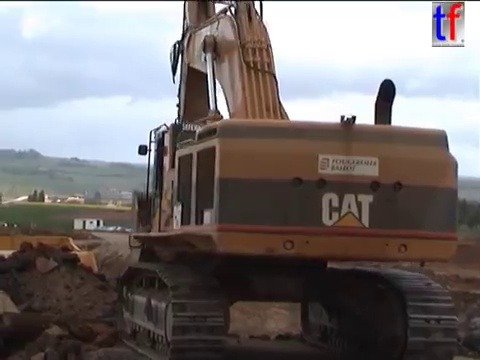excavator: (112, 1, 464, 360)
truck: (1, 229, 127, 360)
